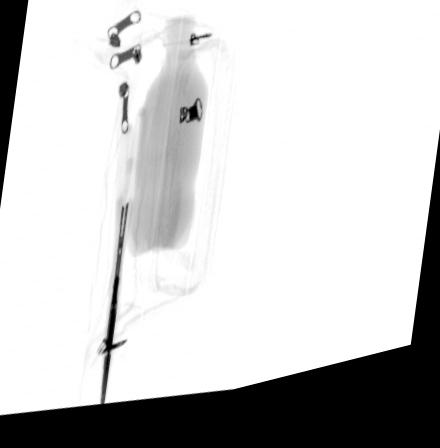Scissors: (98, 111, 147, 404)
